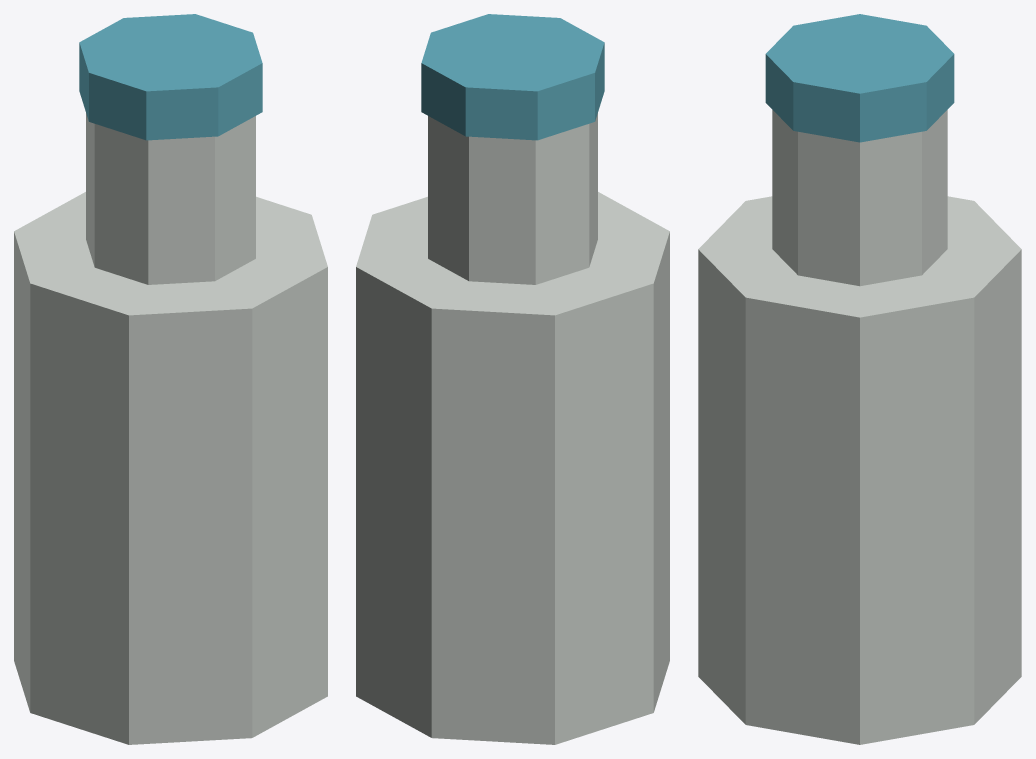
File: moulded-process-bottle.glb
3 views of the same model, side by side, from view 1: azimuth 30°, elevation 25°; view 2: azimuth 150°, elevation 25°; view 3: azimuth 270°, elevation 25° (orthographic).
Parts seen in each view (by area): view 1: cream, blue; view 2: cream, blue; view 3: cream, blue.
Boxes of the visible parts, x1=… form: cream: x1=14, y1=113, x2=327, y2=744; blue: x1=79, y1=14, x2=262, y2=140; cream: x1=356, y1=113, x2=669, y2=744; blue: x1=421, y1=14, x2=604, y2=140; cream: x1=698, y1=110, x2=1021, y2=744; blue: x1=765, y1=14, x2=954, y2=142.
Bounding box in the file's own units: 0.24 × 0.51 × 0.24.
